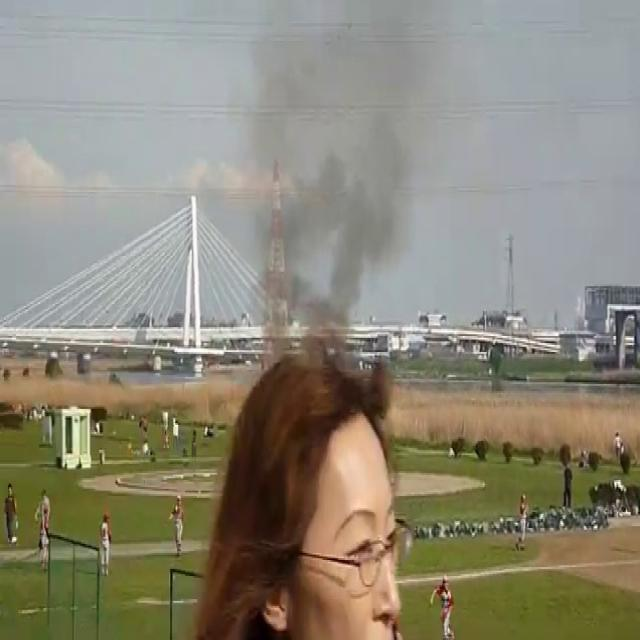Smoke: (225, 1, 631, 312)
